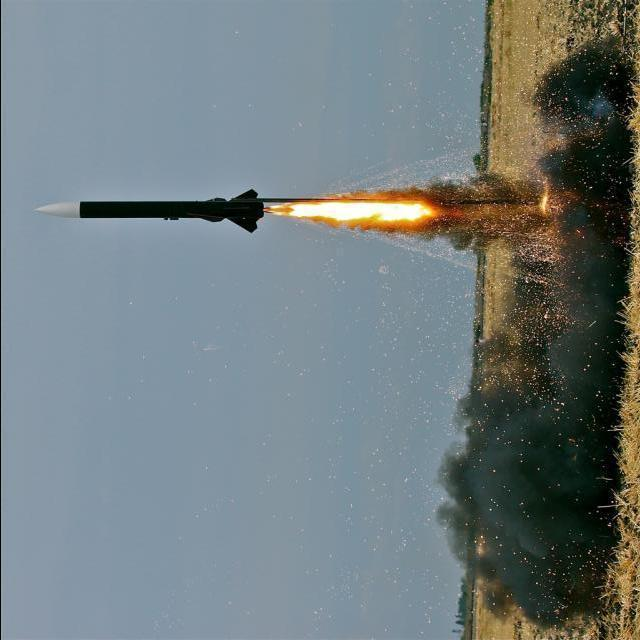missile: (34, 189, 268, 239)
